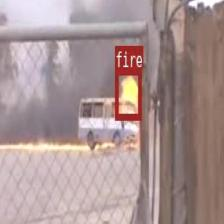fire: (114, 68, 140, 120)
